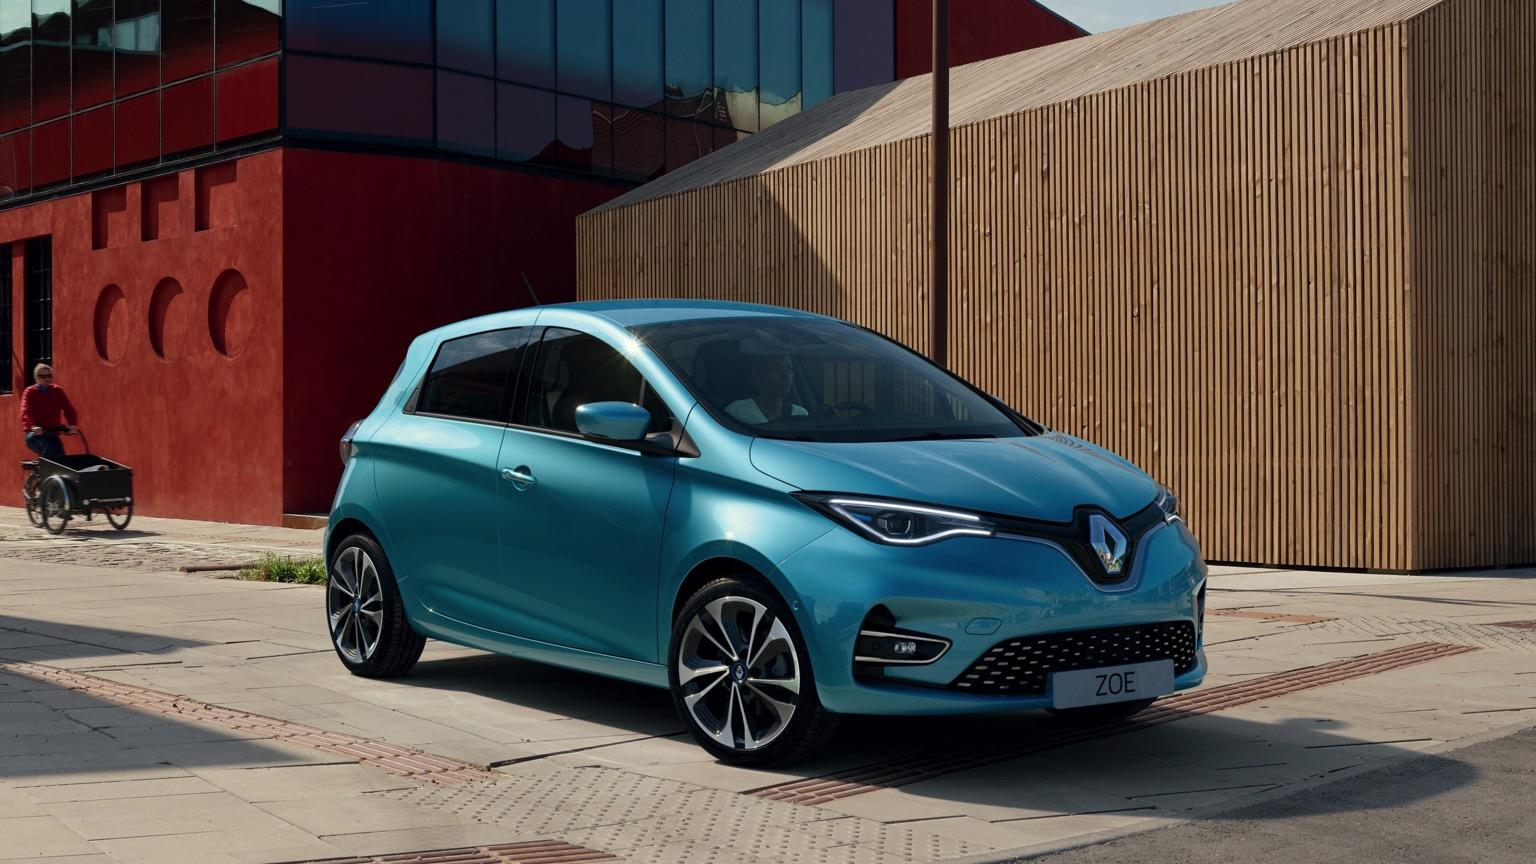Renault: (1076, 490, 1139, 598)
